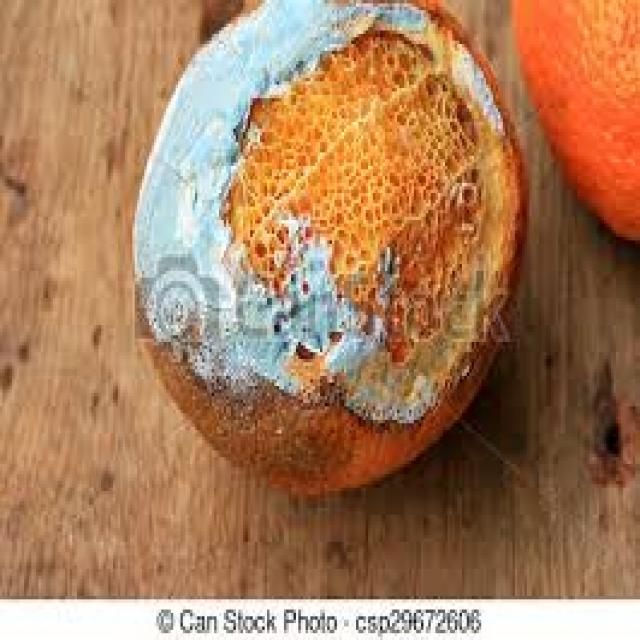organic waste: (128, 0, 524, 491), (510, 0, 638, 237)
